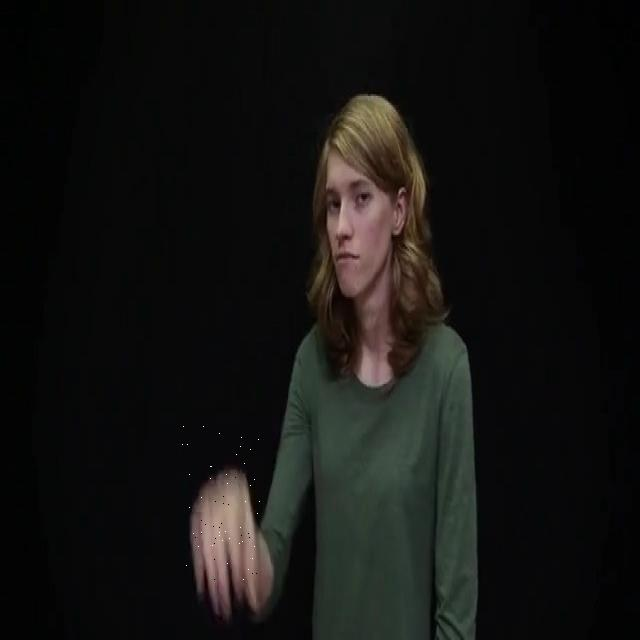pepper: (182, 426, 260, 580)
